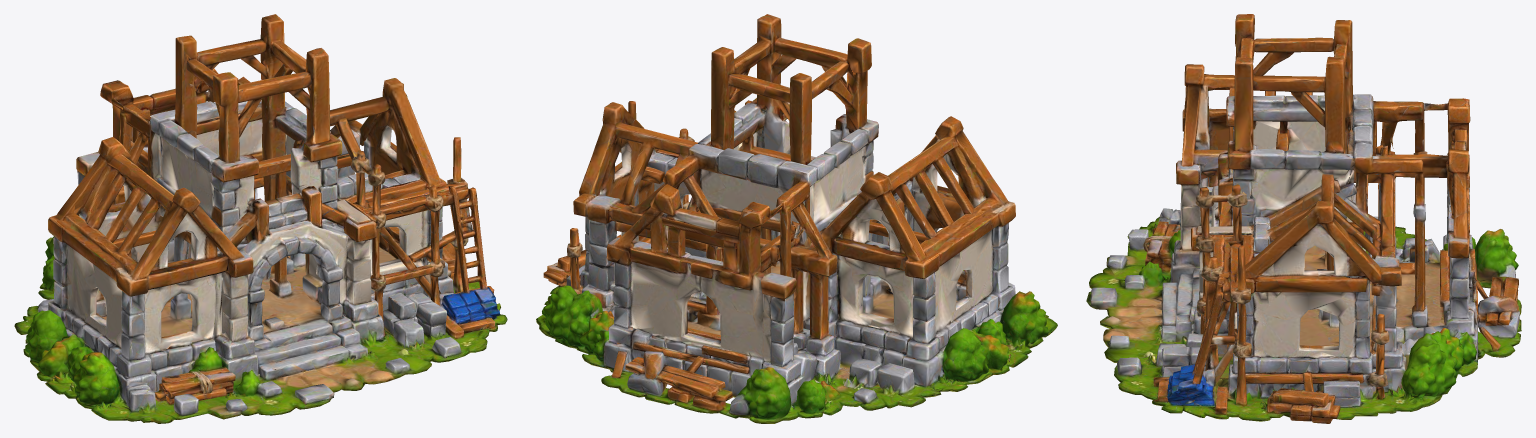
File: ayuntamiento_e2.glb
3 renders of one model, left to right at view 1: azimuth 30°, elevation 25°; view 2: azimuth 150°, elevation 25°; view 3: azimuth 270°, elevation 25°, orthographic.
Size of the model in its own units: 1.89 by 1.14 by 1.61.
1 material, 1 textured.
